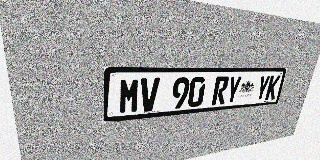0: (187, 77, 206, 108)
9: (171, 77, 191, 109)
K: (265, 75, 281, 100)
M: (119, 78, 140, 114)
R: (211, 76, 230, 105)
V: (139, 77, 160, 112)
Y: (225, 76, 242, 104), (254, 75, 271, 101)
